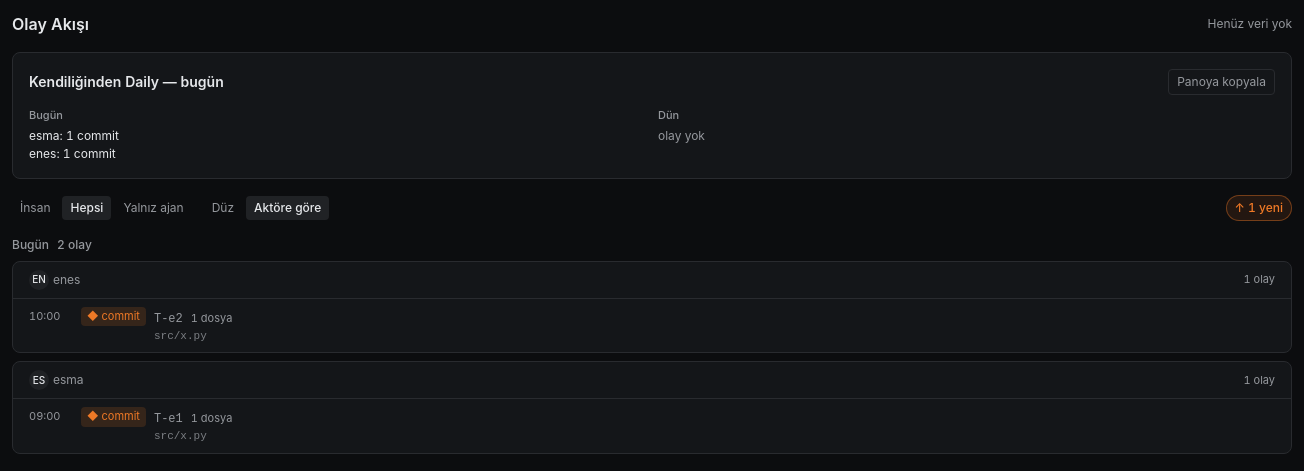
ActivityPage — '↑ N yeni' rozeti (#319, istemci tarafı) › rozete tıklamak tabanı günceller — rozet KAYBOLUR
Click the button "↑ 1 yeni".
click(1259, 208)  # box [1226,194,1292,220]
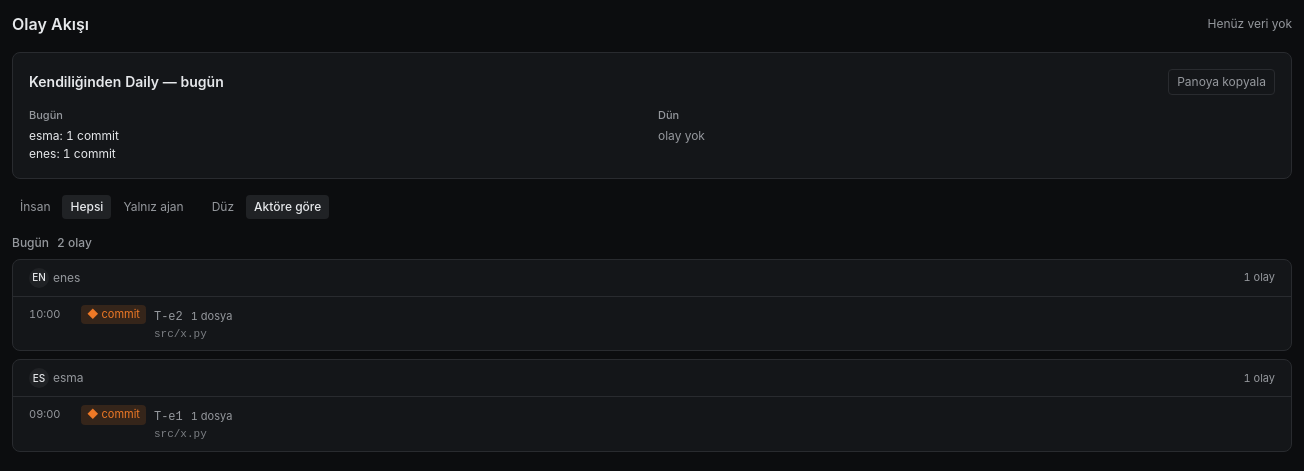
Expected: the button "yeni" is gone
